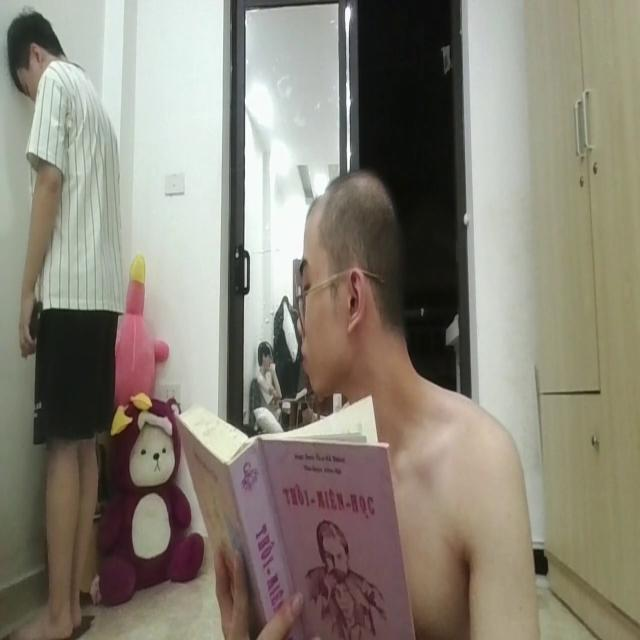book: (176, 388, 411, 640)
extra_person: (0, 12, 130, 640), (253, 327, 289, 417)
student: (285, 164, 541, 640)
